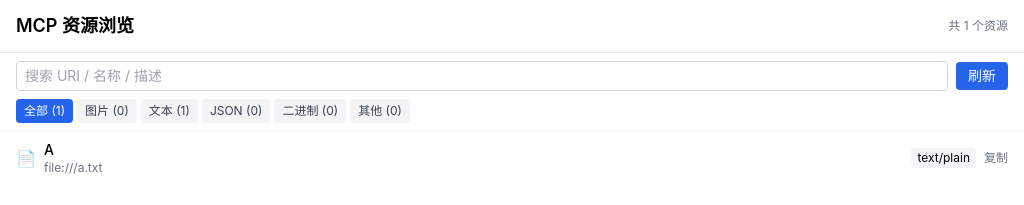
Scenario: McpResourcePanel › 点击资源进入详情
The width and height of the screenshot is (1024, 205).
Click the text "A". click: (49, 150)
box: [44,141,54,158]
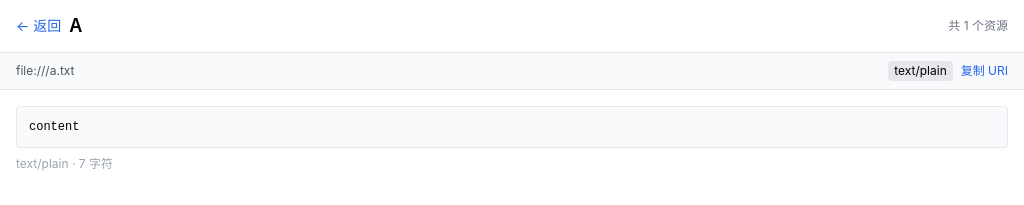
Result: the element with test id "mcp-resource-detail" is shown
